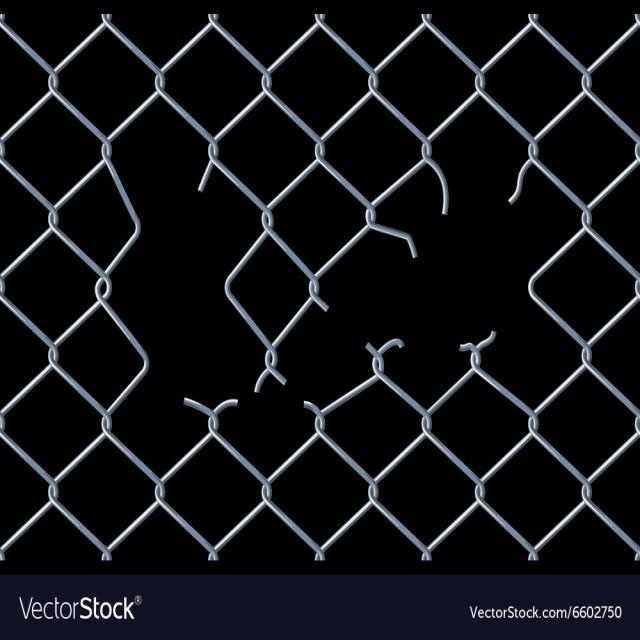fence line: (300, 139, 597, 430), (98, 91, 272, 486)
